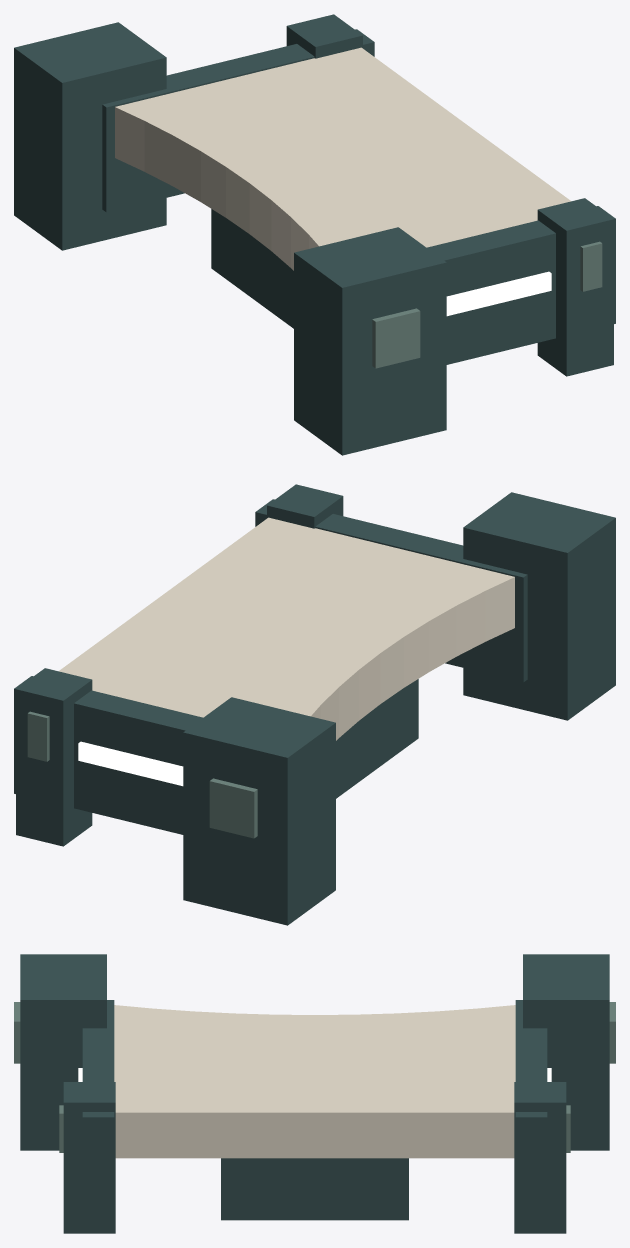
The model's file is Pier_Angled_00_lab.glb.
The picture shows the model from 3 angles, top to bottom: view 1: azimuth 30°, elevation 25°; view 2: azimuth 150°, elevation 25°; view 3: azimuth 270°, elevation 25°; orthographic projection. The views are drawn at different scales.
Parts seen in each view (by area): view 1: Pier_Angled_00; view 2: Pier_Angled_00; view 3: Pier_Angled_00.
Part boxes in pixels (x1=…): Pier_Angled_00: x1=14, y1=14, x2=615, y2=455; Pier_Angled_00: x1=14, y1=484, x2=615, y2=925; Pier_Angled_00: x1=14, y1=954, x2=615, y2=1233.
Size of the model in its own units: 2.21 by 1.15 by 4.17.
